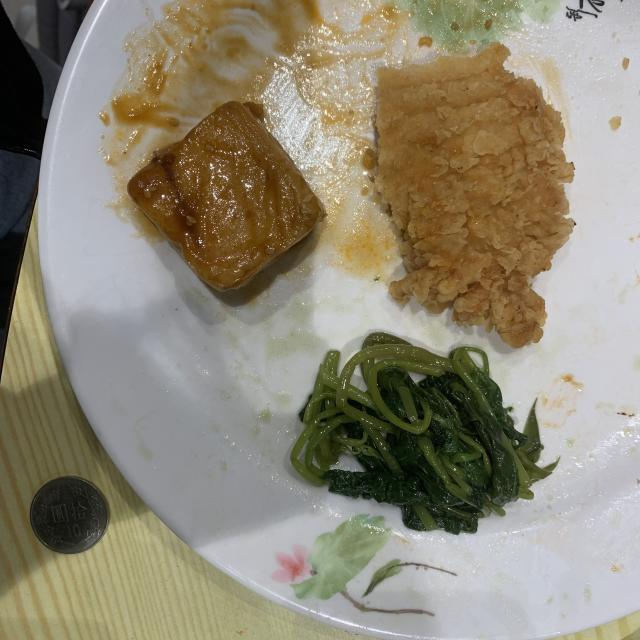coin: (30, 476, 109, 554)
creamy tofu: (128, 101, 326, 291)
fried chicken cutlet: (375, 42, 574, 348)
sweet potato leaves: (290, 331, 558, 534)
